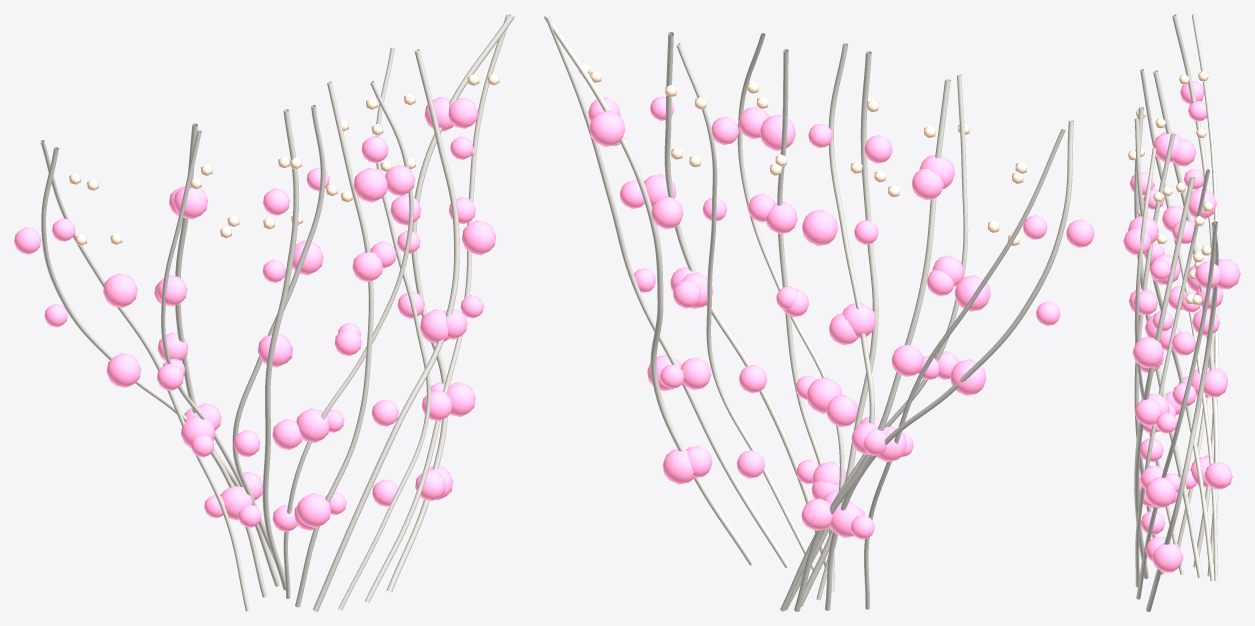
Rendered from soft_botanical.glb.
3 views of the same model, side by side, from view 1: azimuth 30°, elevation 25°; view 2: azimuth 150°, elevation 25°; view 3: azimuth 270°, elevation 25° (orthographic). The views are drawn at different scales.
Parts seen in each view (by area): view 1: branch_08, branch_05, branch_07, branch_11, branch_10, branch_09, branch_06, branch_01, branch_04, branch_00, branch_02, branch_03 (+17 smaller); view 2: branch_11, branch_10, branch_01, branch_02, branch_05, branch_09, branch_08, branch_00, branch_04, branch_06, branch_07, branch_03 (+15 smaller); view 3: branch_11, branch_08, branch_10, branch_09, branch_04, branch_03, branch_01, branch_05, branch_02, branch_00, branch_06, branch_07 (+40 smaller).
Part boxes in pixels (x1,y1,x2,y2): branch_08: (313,49,459,611); branch_05: (262,109,298,590); branch_07: (295,81,373,607); branch_11: (386,14,514,592); branch_10: (364,14,509,603); branch_09: (338,47,430,610); branch_06: (283,81,413,598); branch_01: (41,147,267,597); branch_04: (232,105,325,574); branch_00: (40,140,249,611); branch_02: (175,123,280,586); branch_03: (161,130,274,561); branch_11: (543,14,754,565); branch_10: (545,16,789,567); branch_01: (825,120,1073,610); branch_02: (794,79,950,611); branch_05: (801,51,878,606); branch_09: (676,43,814,570); branch_08: (664,32,834,581); branch_00: (864,129,1065,609); branch_04: (785,43,874,610); branch_06: (737,33,844,600); branch_07: (777,49,834,591); branch_03: (780,74,968,611); branch_11: (1146,222,1218,611); branch_08: (1134,176,1194,578); branch_10: (1136,221,1217,599); branch_09: (1135,169,1209,587); branch_04: (1134,118,1214,580); branch_03: (1140,69,1218,580); branch_01: (1172,14,1218,567); branch_05: (1134,107,1202,577); branch_02: (1153,70,1218,576); branch_00: (1177,14,1218,547); branch_06: (1134,148,1183,574); branch_07: (1134,133,1175,574).
Size of the model in its own units: 3.7 by 3.56 by 0.8276.
